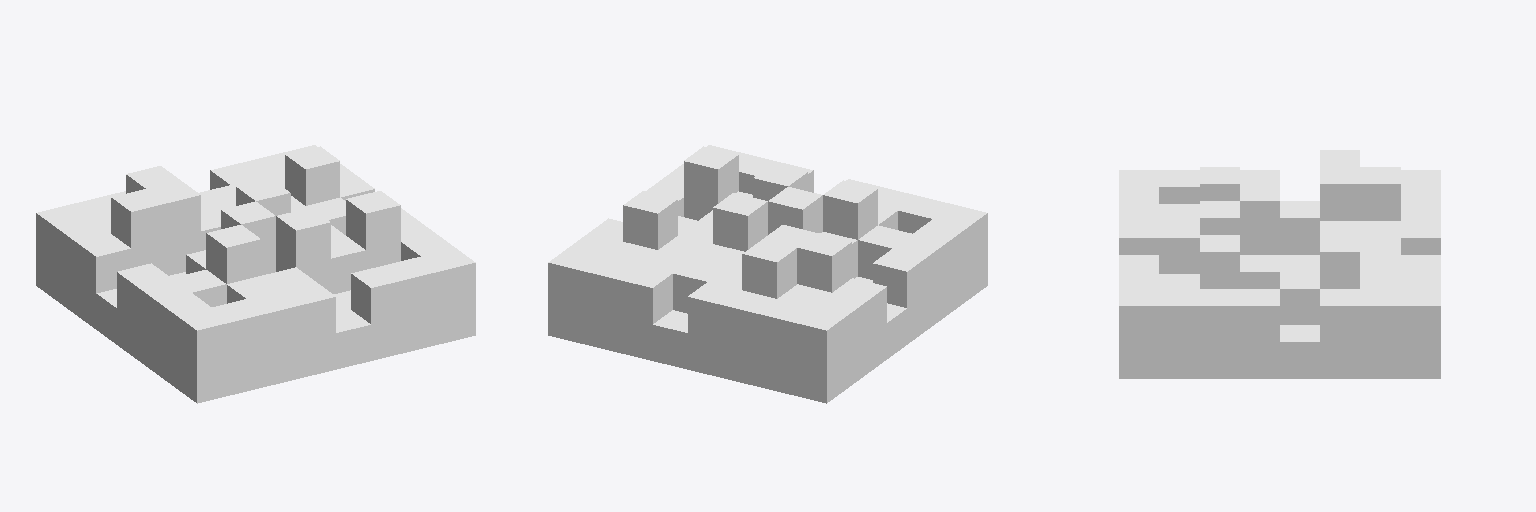
The model's file is GreenCorall2.obj.
3 views of the same model, side by side, from view 1: azimuth 30°, elevation 25°; view 2: azimuth 150°, elevation 25°; view 3: azimuth 270°, elevation 25° (orthographic).
Parts seen in each view (by area): view 1: object 1; view 2: object 1; view 3: object 1.
Part boxes in pixels (x1,y1,x2,y2): object 1: (36, 145, 475, 403); object 1: (548, 145, 987, 403); object 1: (1119, 150, 1440, 378).
Bounding box in the file's own units: 0.8 × 0.3 × 0.8.